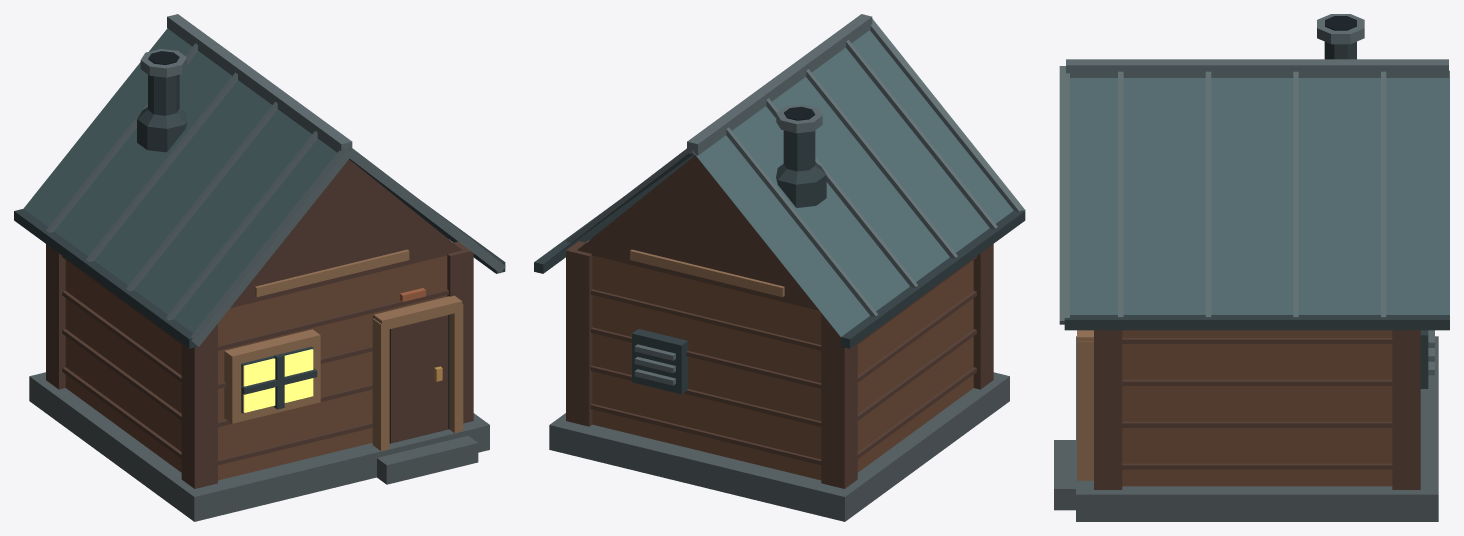
File: Survact-cabana-v01.glb
The picture shows the model from 3 angles, left to right: view 1: azimuth 30°, elevation 25°; view 2: azimuth 150°, elevation 25°; view 3: azimuth 270°, elevation 25°; orthographic projection. The views are drawn at different scales.
Visible parts, largest first — view 1: Body, Roof, WindowLit; view 2: Body, Roof; view 3: Roof, Body.
Part boxes in pixels (left/top/right/bottom): Body: left=29, top=159, right=489, bottom=521; Roof: left=14, top=14, right=505, bottom=348; WindowLit: left=243, top=349, right=313, bottom=412; Body: left=549, top=155, right=1009, bottom=521; Roof: left=534, top=14, right=1025, bottom=348; Roof: left=1059, top=14, right=1449, bottom=330; Body: left=1054, top=330, right=1438, bottom=521.
Size of the model in its own units: 1.97 by 2.11 by 1.94.
